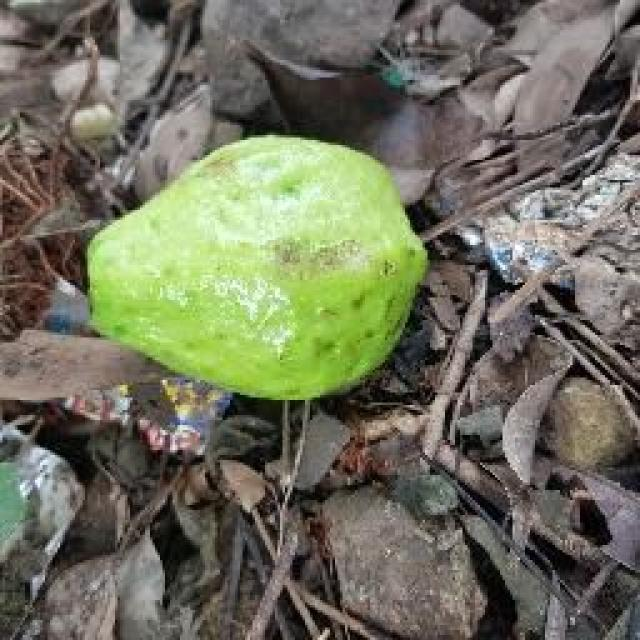Good_Guava: (88, 135, 428, 398)
